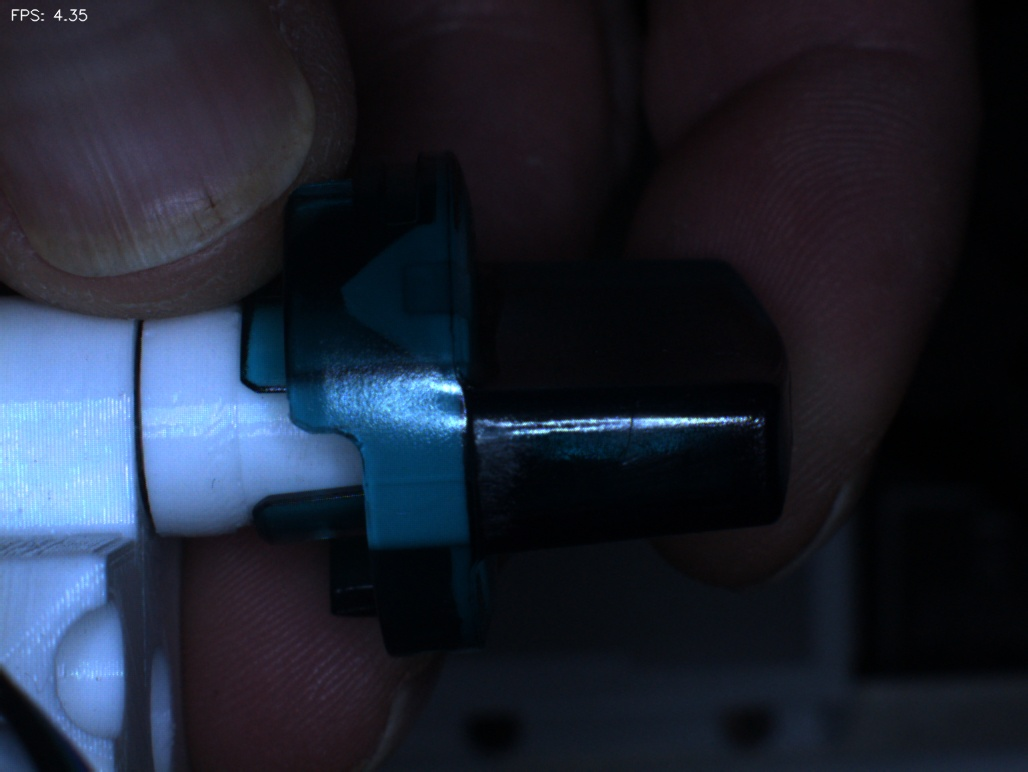DentOk: (319, 244, 394, 338)
